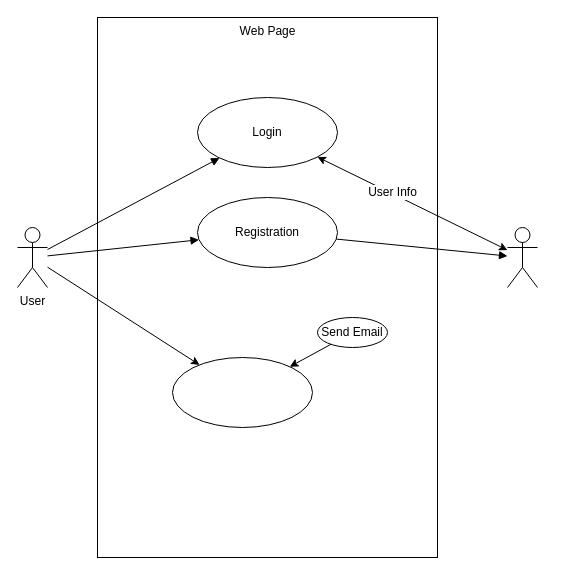
Image size: 565x575. Some labels were removed from this diagram. The shapes that lost their labels are listed below. From the top down, each one's centre as x and y in pixels, then its label:
At point (522, 257): "Webpage".
At point (242, 392): "Forgot Password".
